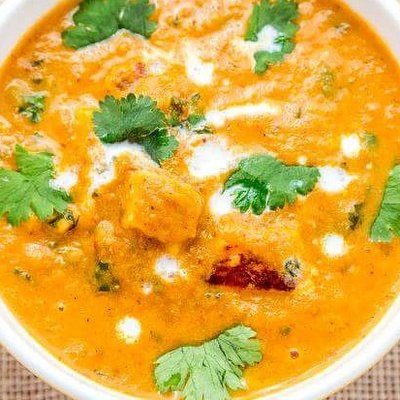curry: (0, 143, 74, 230), (92, 93, 180, 164), (220, 155, 319, 216), (61, 0, 159, 50), (370, 161, 400, 244), (18, 93, 47, 123)
